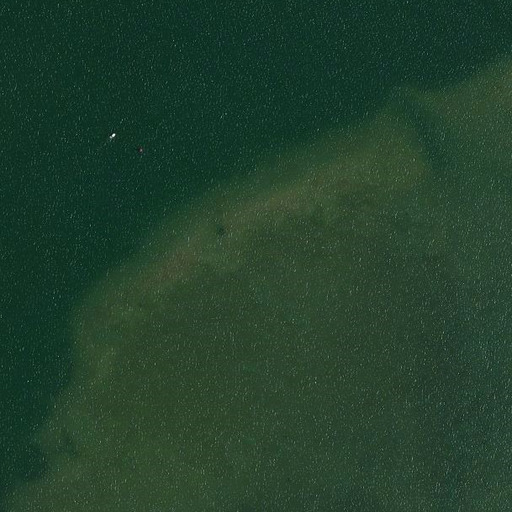ship: (107, 129, 118, 143)
